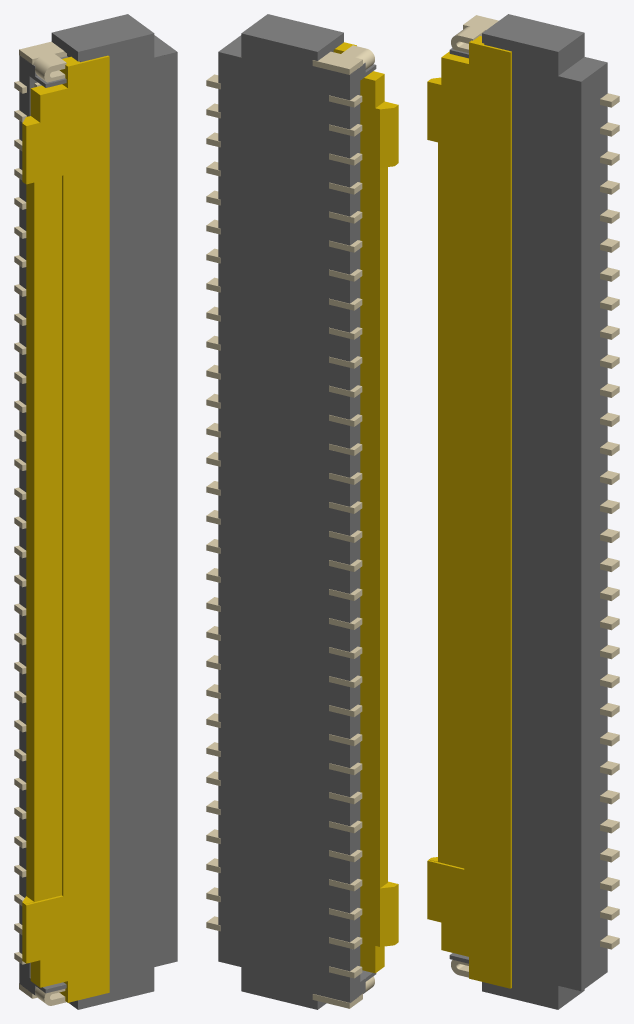
Rendered from Hirose_FH26-61S-0.3SHW_2Rows-61Pins-1MP_P0.60mm_Horizontal.glb.
The picture shows the model from 3 angles, left to right: view 1: azimuth 30°, elevation 25°; view 2: azimuth 150°, elevation 25°; view 3: azimuth 330°, elevation 25°; orthographic projection.
Visible parts, largest first — view 1: Shape_IndexedFaceSet.004, Shape_IndexedFaceSet.031, Shape_IndexedFaceSet.034, Shape_IndexedFaceSet.049, Shape_IndexedFaceSet.014, Shape_IndexedFaceSet.001, Shape_IndexedFaceSet.042, Shape_IndexedFaceSet.456; view 2: Shape_IndexedFaceSet.003, Shape_IndexedFaceSet.032, Shape_IndexedFaceSet.014, Shape_IndexedFaceSet.049, Shape_IndexedFaceSet.001, Shape_IndexedFaceSet.050, Shape_IndexedFaceSet.030, Shape_IndexedFaceSet.456; view 3: Shape_IndexedFaceSet.004, Shape_IndexedFaceSet.031, Shape_IndexedFaceSet.006, Shape_IndexedFaceSet.034, Shape_IndexedFaceSet.001, Shape_IndexedFaceSet.038, Shape_IndexedFaceSet, Shape_IndexedFaceSet.002, Shape_IndexedFaceSet.456.
Boxes of the visible parts, <box> form: Shape_IndexedFaceSet.004: <box>45,33,177,1009</box>; Shape_IndexedFaceSet.031: <box>26,56,109,1002</box>; Shape_IndexedFaceSet.034: <box>25,176,61,904</box>; Shape_IndexedFaceSet.049: <box>26,182,34,901</box>; Shape_IndexedFaceSet.014: <box>19,55,45,994</box>; Shape_IndexedFaceSet.001: <box>52,14,153,51</box>; Shape_IndexedFaceSet.042: <box>62,175,63,895</box>; Shape_IndexedFaceSet.456: <box>19,41,65,65</box>; Shape_IndexedFaceSet.003: <box>218,33,349,1009</box>; Shape_IndexedFaceSet.032: <box>333,49,379,973</box>; Shape_IndexedFaceSet.014: <box>350,63,376,1002</box>; Shape_IndexedFaceSet.049: <box>380,167,387,887</box>; Shape_IndexedFaceSet.001: <box>242,14,343,51</box>; Shape_IndexedFaceSet.050: <box>380,107,394,167</box>; Shape_IndexedFaceSet.030: <box>380,887,394,946</box>; Shape_IndexedFaceSet.456: <box>313,45,366,69</box>; Shape_IndexedFaceSet.004: <box>449,33,581,1009</box>; Shape_IndexedFaceSet.031: <box>427,42,510,988</box>; Shape_IndexedFaceSet.006: <box>581,63,607,990</box>; Shape_IndexedFaceSet.034: <box>429,142,464,868</box>; Shape_IndexedFaceSet.001: <box>482,14,583,51</box>; Shape_IndexedFaceSet.038: <box>510,52,511,988</box>; Shape_IndexedFaceSet: <box>558,33,584,75</box>; Shape_IndexedFaceSet.002: <box>558,57,607,81</box>; Shape_IndexedFaceSet.456: <box>459,15,498,38</box>.
Size of the model in its own units: 1.4 by 7.8 by 0.4134.
